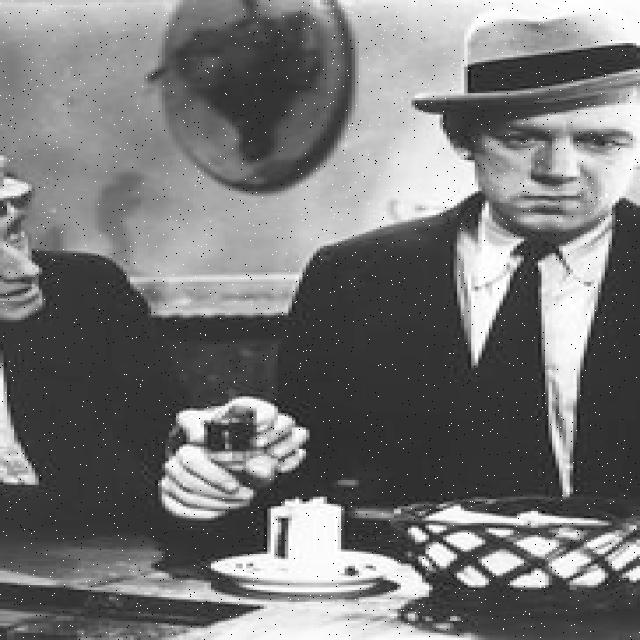picture: (8, 7, 640, 623)
